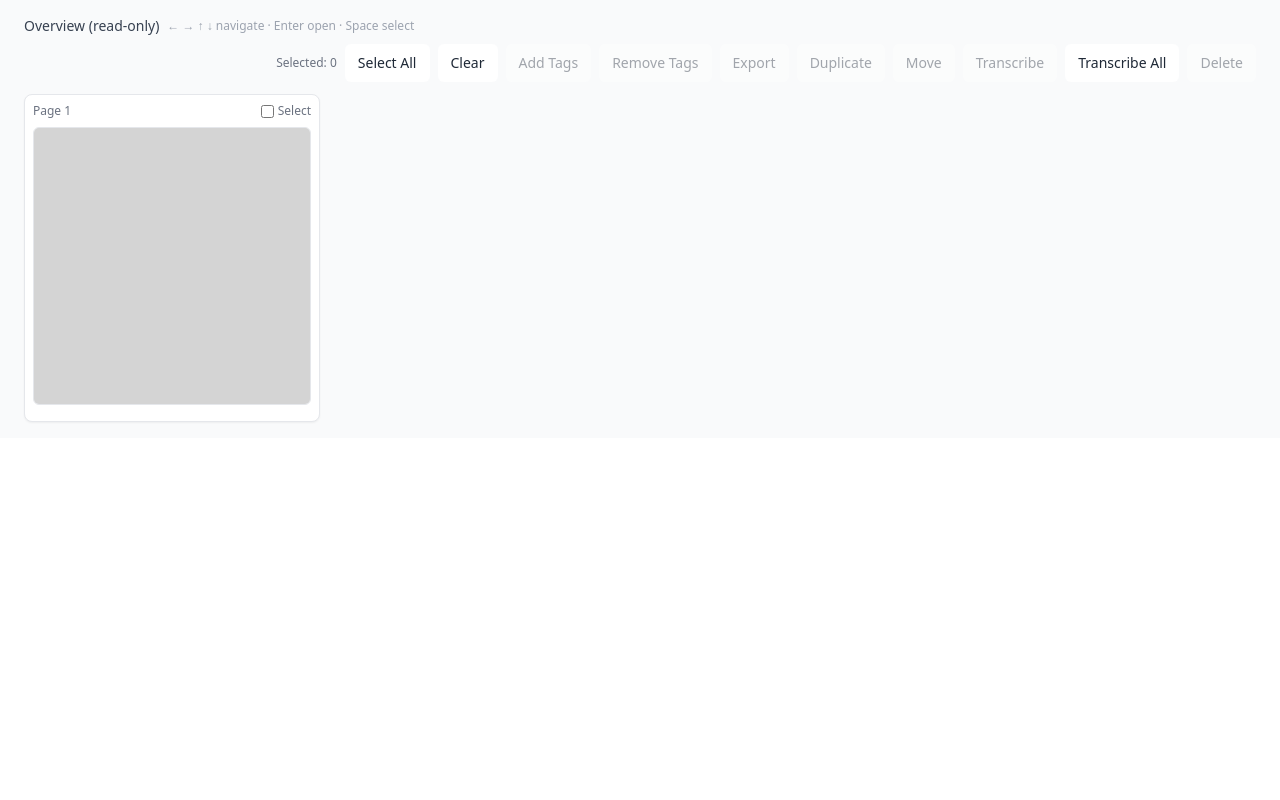
Test: OverviewView - Export Dialog › opens export dialog when Export is clicked
Click the checkbox at (267, 111), box [261, 104, 274, 118]
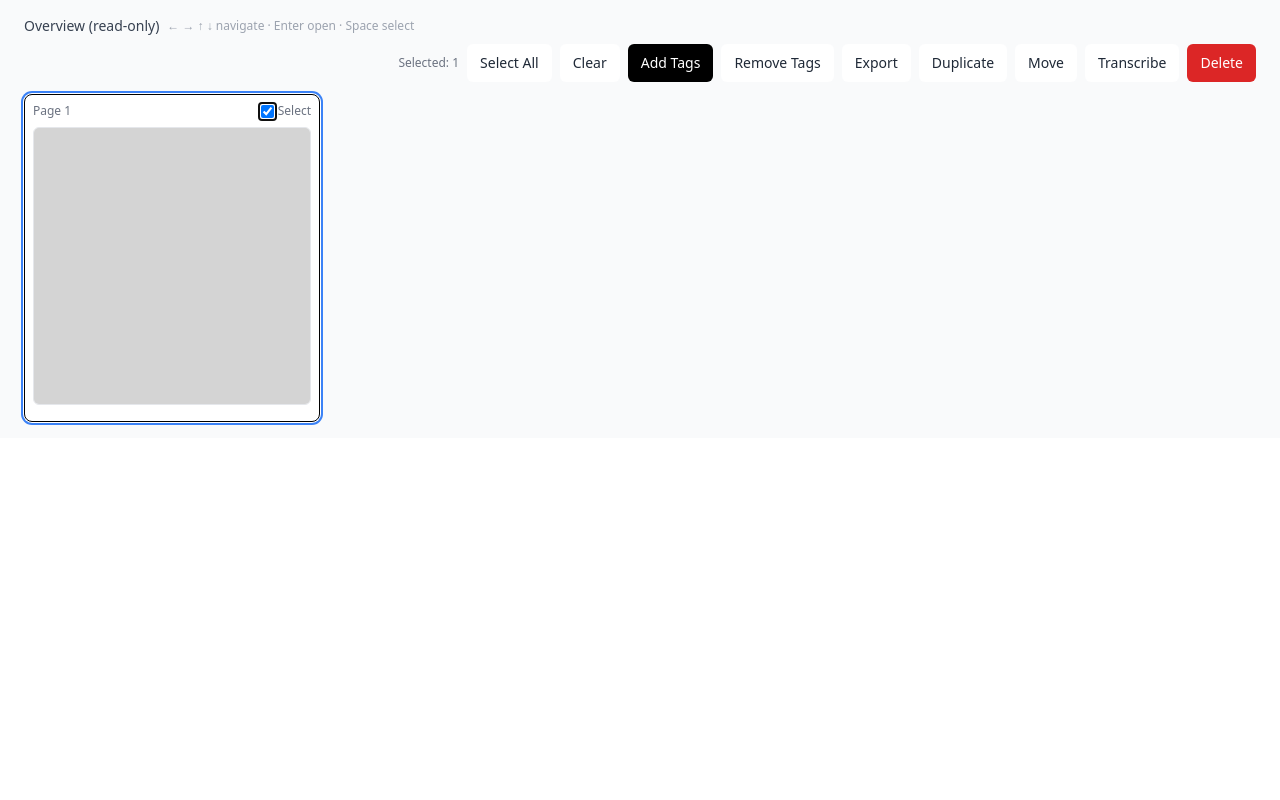
Click the button "Export" at (876, 63), box [842, 44, 911, 82]
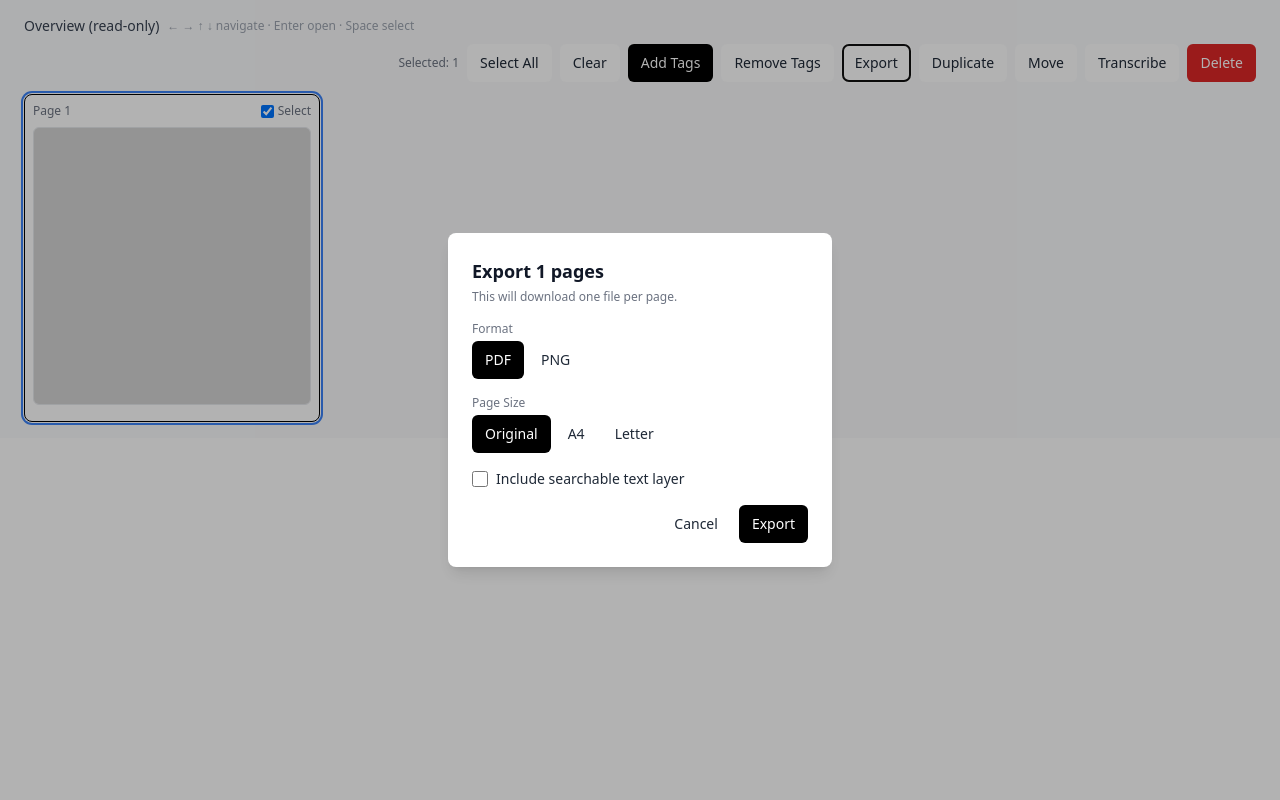
Check: the heading "Export 1 pages" is shown, box [472, 259, 604, 283]
Check: the text "This will download one file per page." is shown, box [472, 288, 677, 305]
